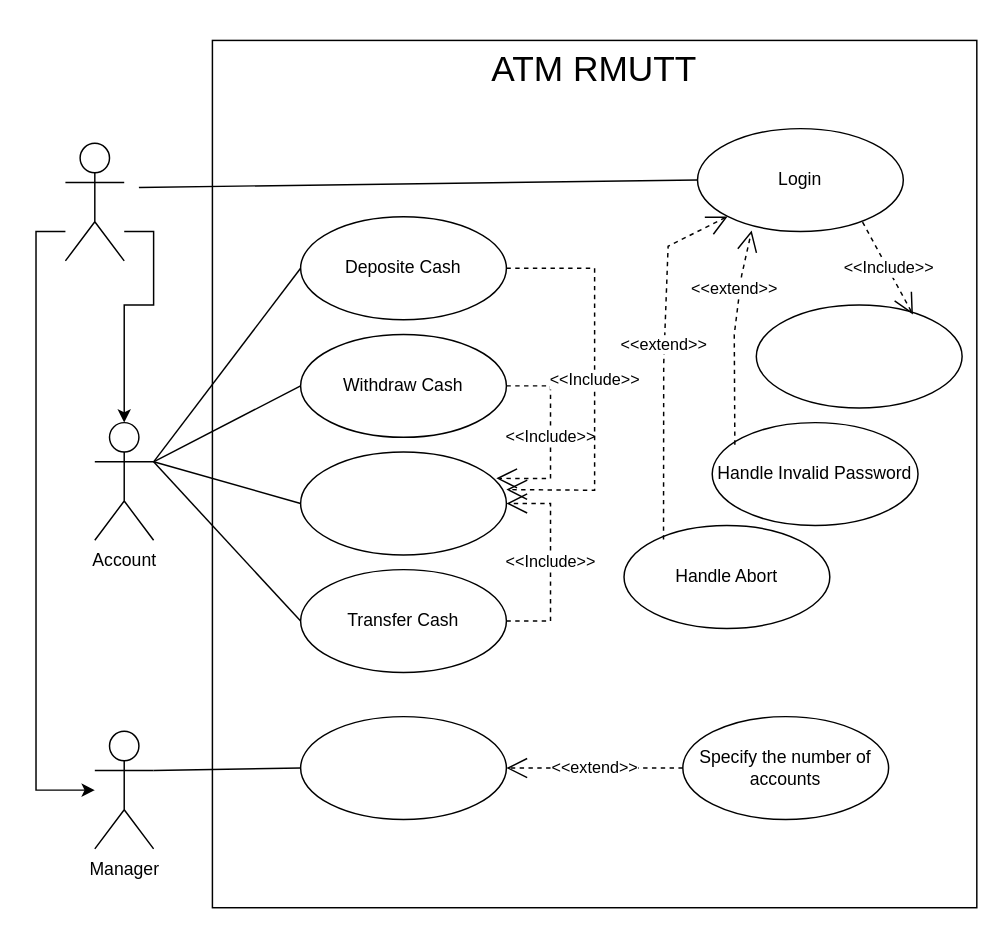
This 1003x933 diagram has some shape labels left out. The shapes that lost their labels are listed below. From the top down, each one's box as (x1, y1, x2, y2) in pixels, then its label:
(64, 142, 124, 261): Person
(755, 304, 962, 408): Authenticate
(299, 451, 506, 555): Check Balance
(299, 715, 506, 820): Add Account
